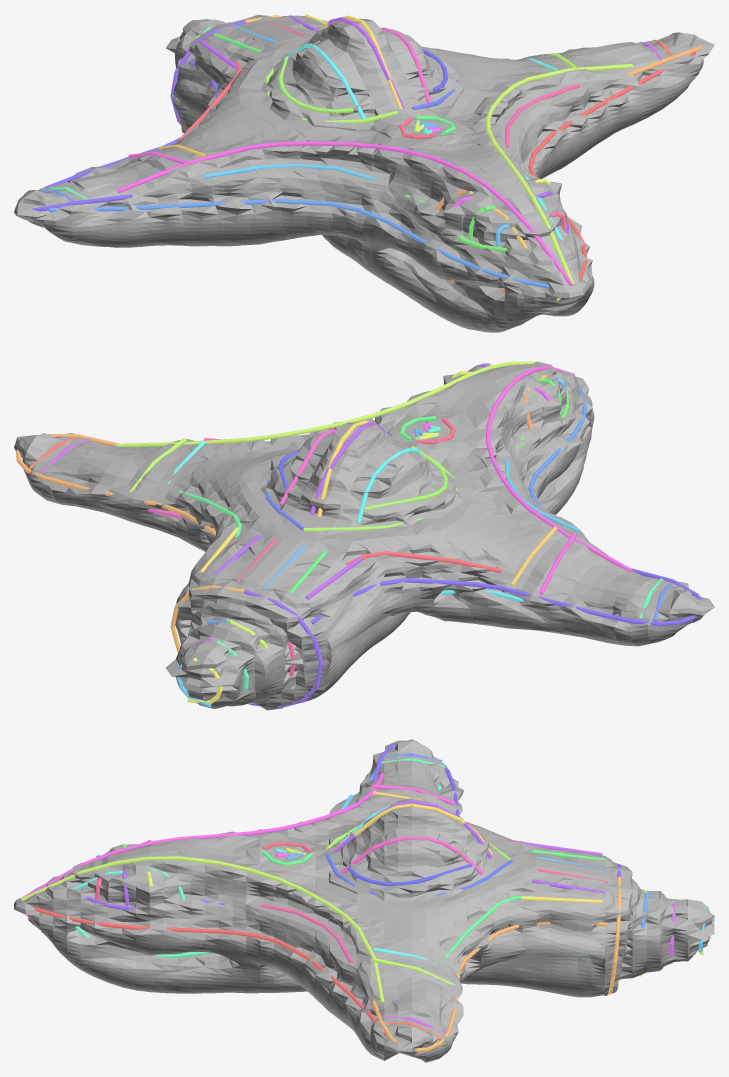
File: author1_ship.gltf
3 renders of one model, top to bottom at view 1: azimuth 30°, elevation 25°; view 2: azimuth 150°, elevation 25°; view 3: azimuth 270°, elevation 25°, orthographic. The views are drawn at different scales.
Bounding box in the file's own units: 0.7279 × 0.2014 × 0.6956.
